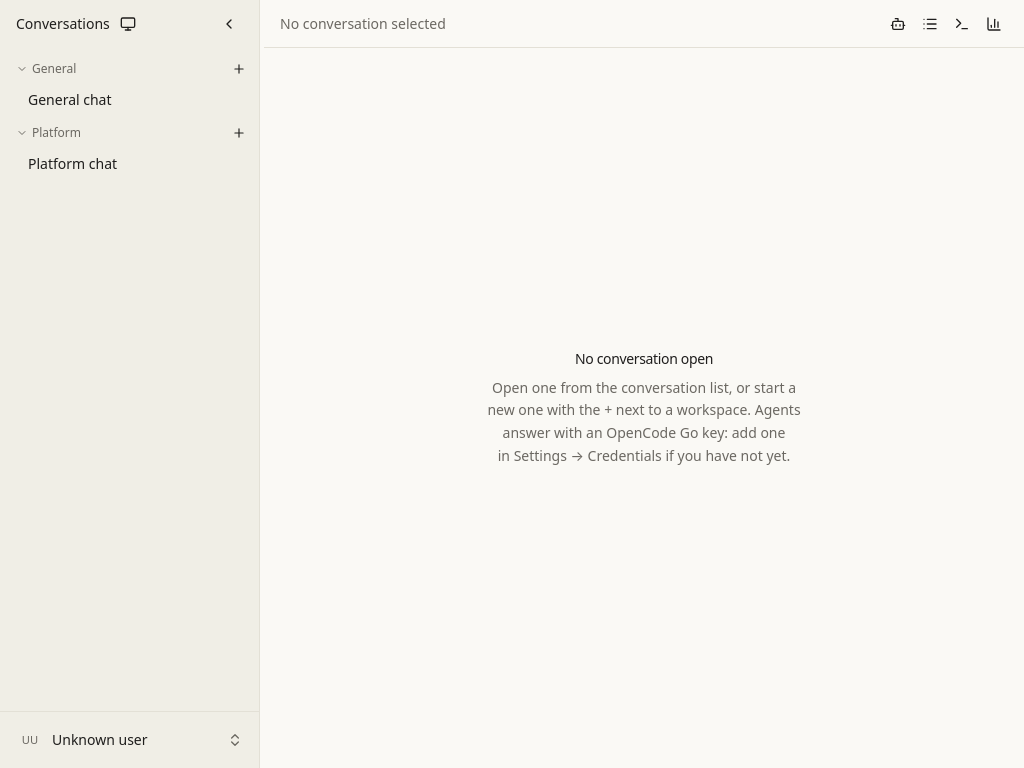
Test: App › opens settings as a window over the chat rather than in place of it
Expected: the button "General chat" is shown, left=8, top=84, right=251, bottom=116
Press the mouse on the button with aria-label "Account" at (130, 740), box left=8, top=720, right=251, bottom=760
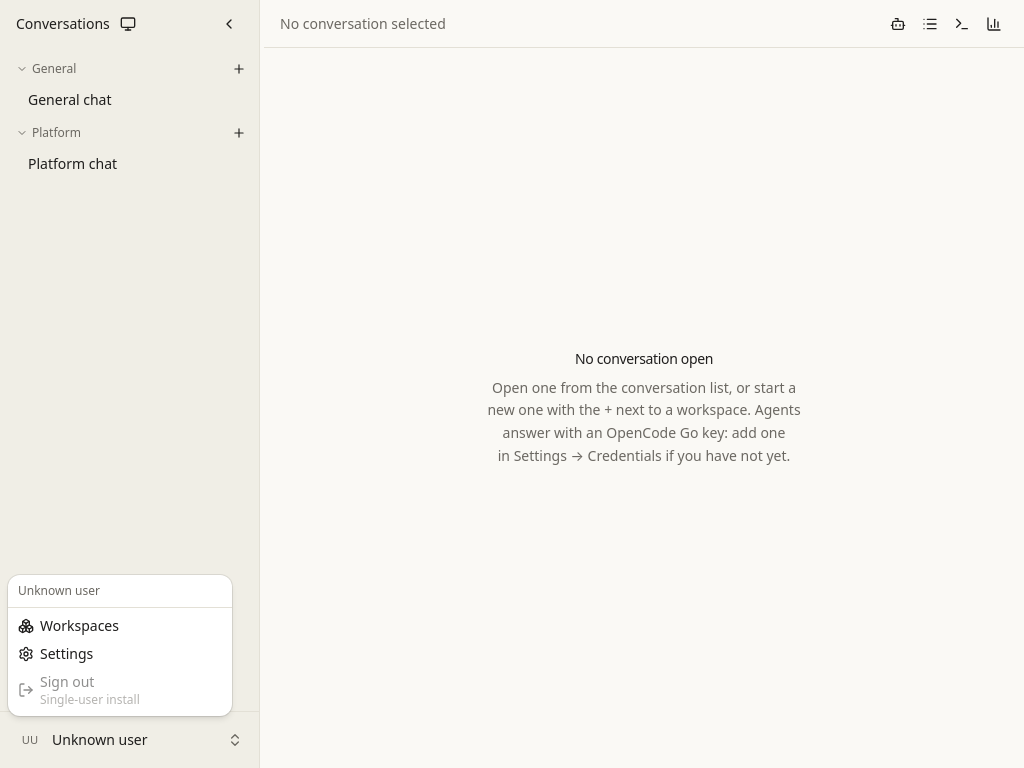
Click the menu item "Settings". click: (56, 654)
box: left=18, top=644, right=93, bottom=663
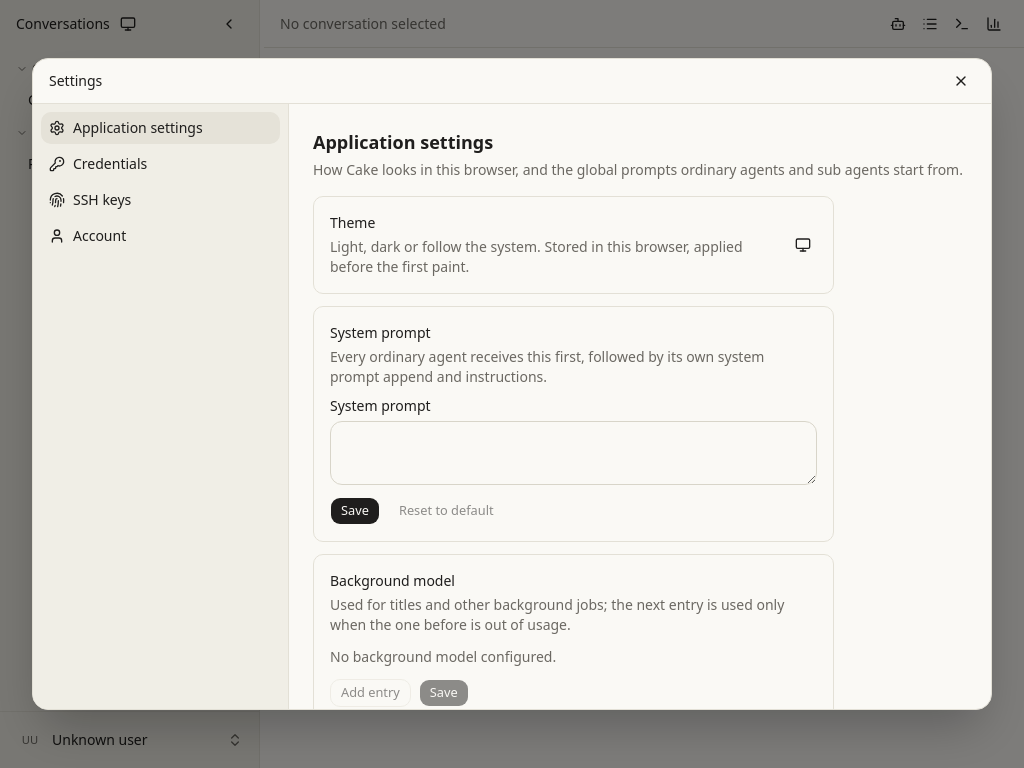
Expected: the element "Conversations" is shown, left=0, top=0, right=260, bottom=767
Now the heading "Application settings" is shown, box left=313, top=130, right=493, bottom=154
Click the button named "Close Settings". click: (961, 81)
box: left=947, top=67, right=975, bottom=95
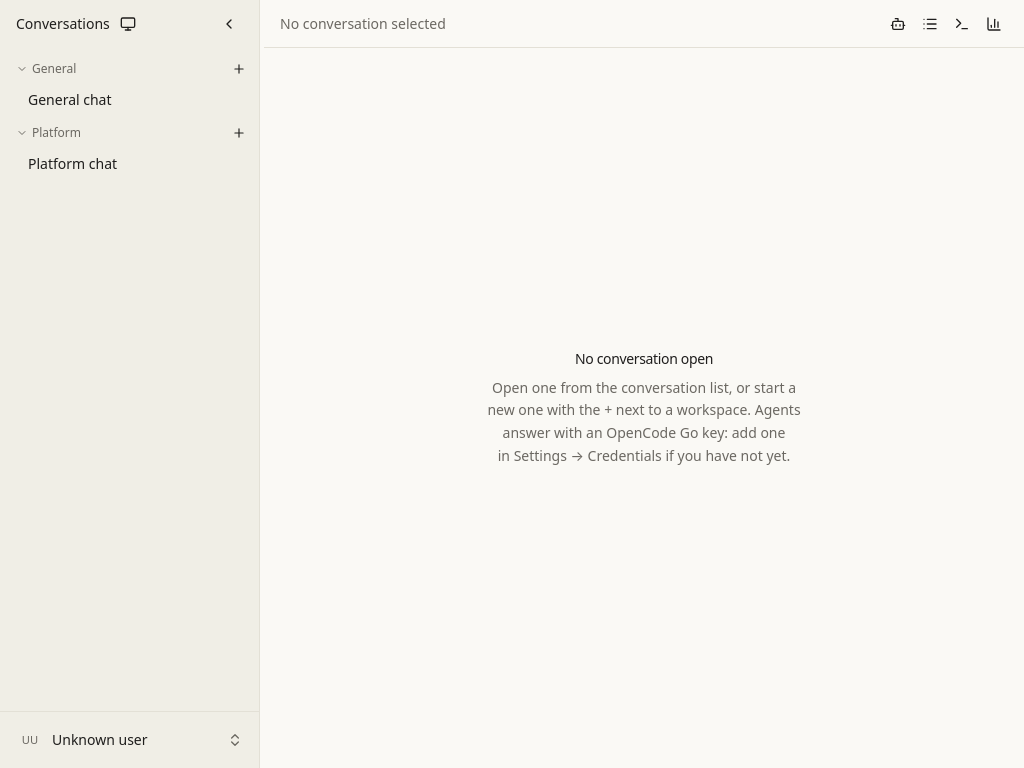
Expected: the button "General chat" is shown, left=8, top=84, right=251, bottom=116
Now the dialog is gone
